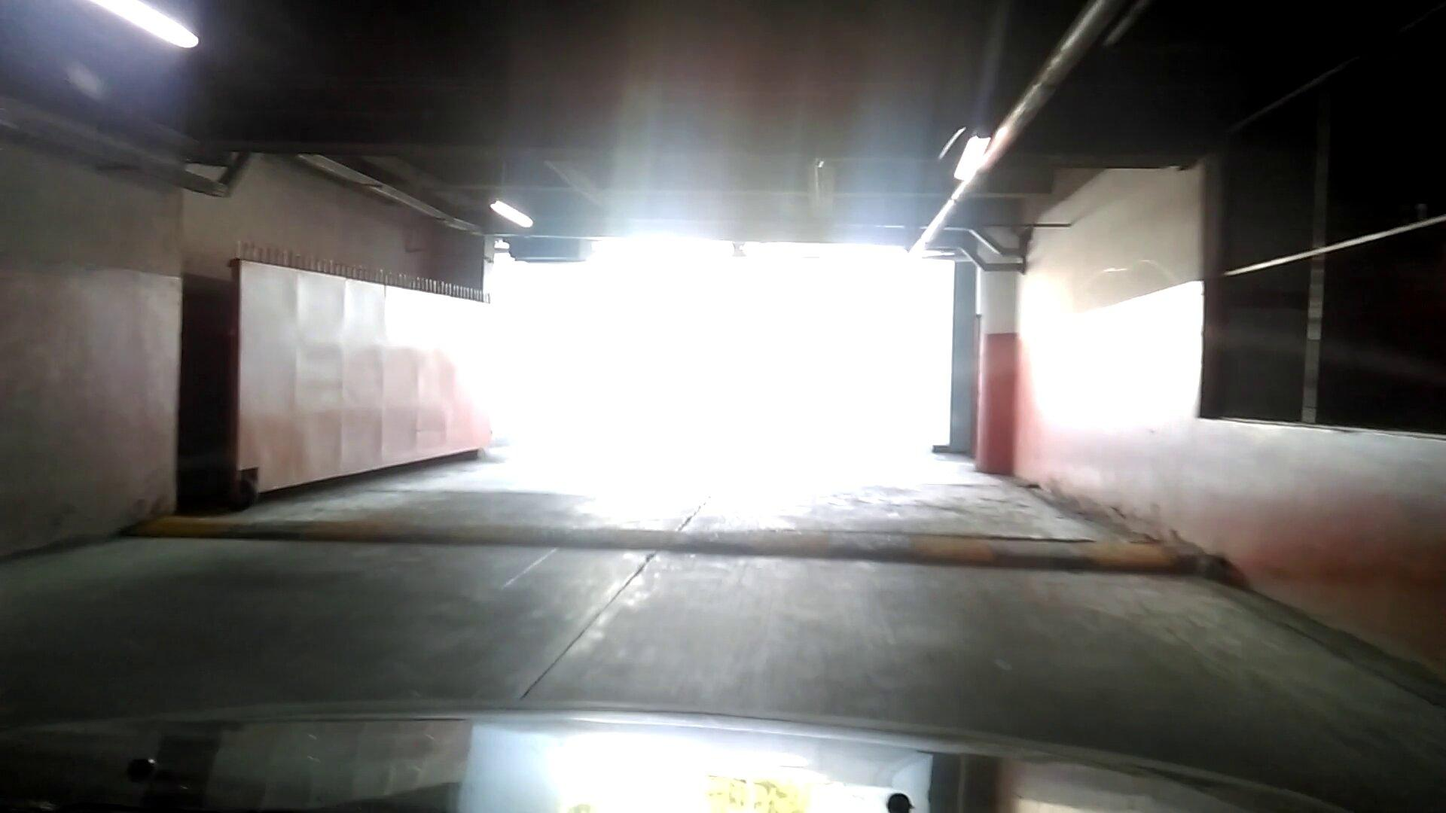Bump: (168, 506, 1205, 587)
